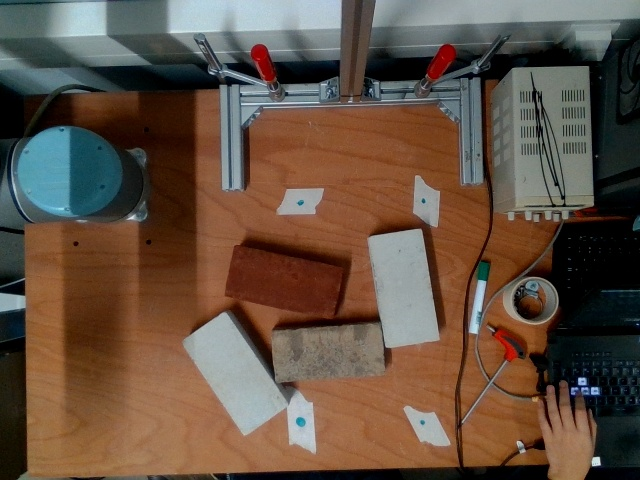brick: (181, 314, 286, 434), (225, 245, 343, 319), (370, 231, 438, 349), (272, 324, 385, 385)
